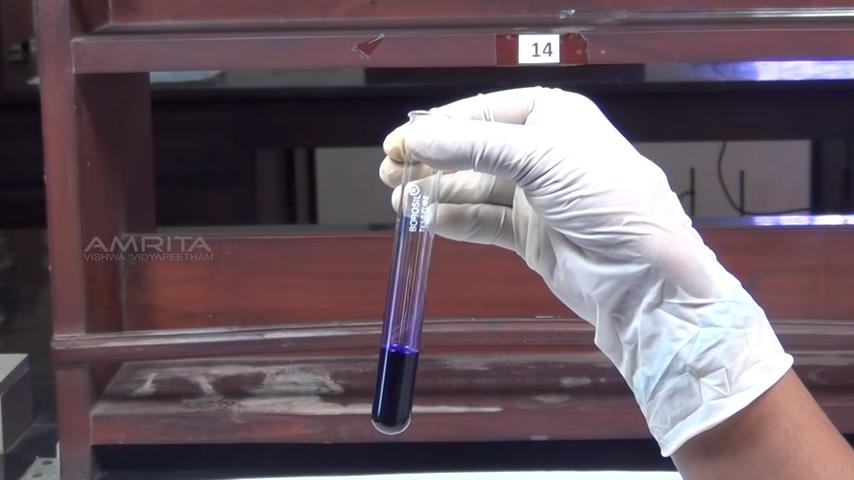Test tube: (375, 87, 454, 434)
